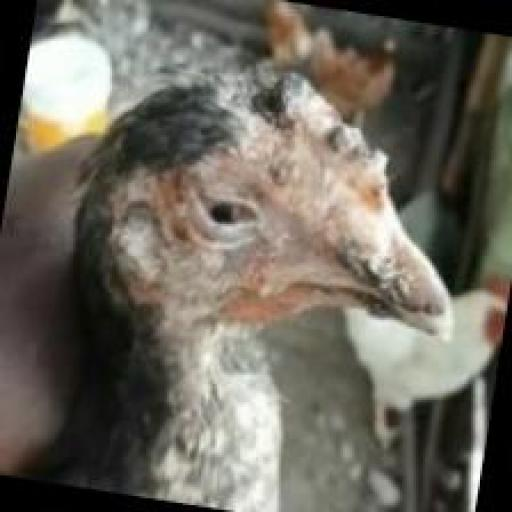disease: (70, 42, 476, 416)
